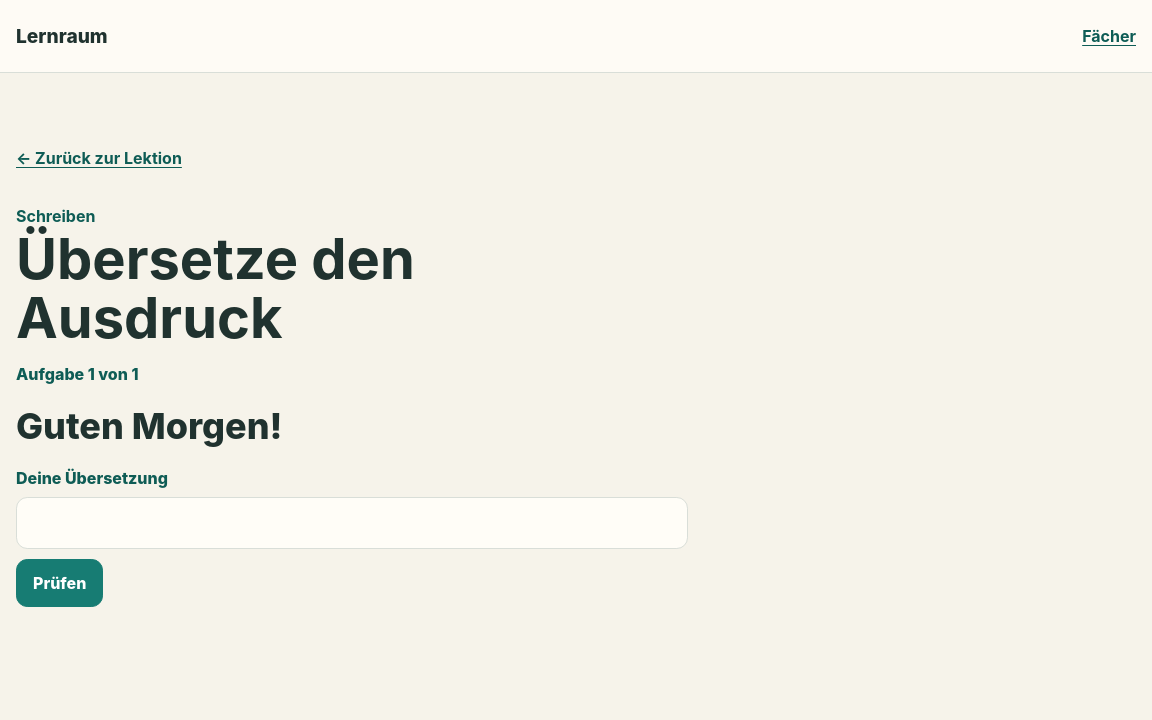
Test: WritingMode › accepts a missing Spanish accent and keeps the feedback until Weiter
Type "Buenos dias" into the field labelled "Deine Übersetzung".
click(352, 523); type("Buenos dias")  # box [16,497,688,549]
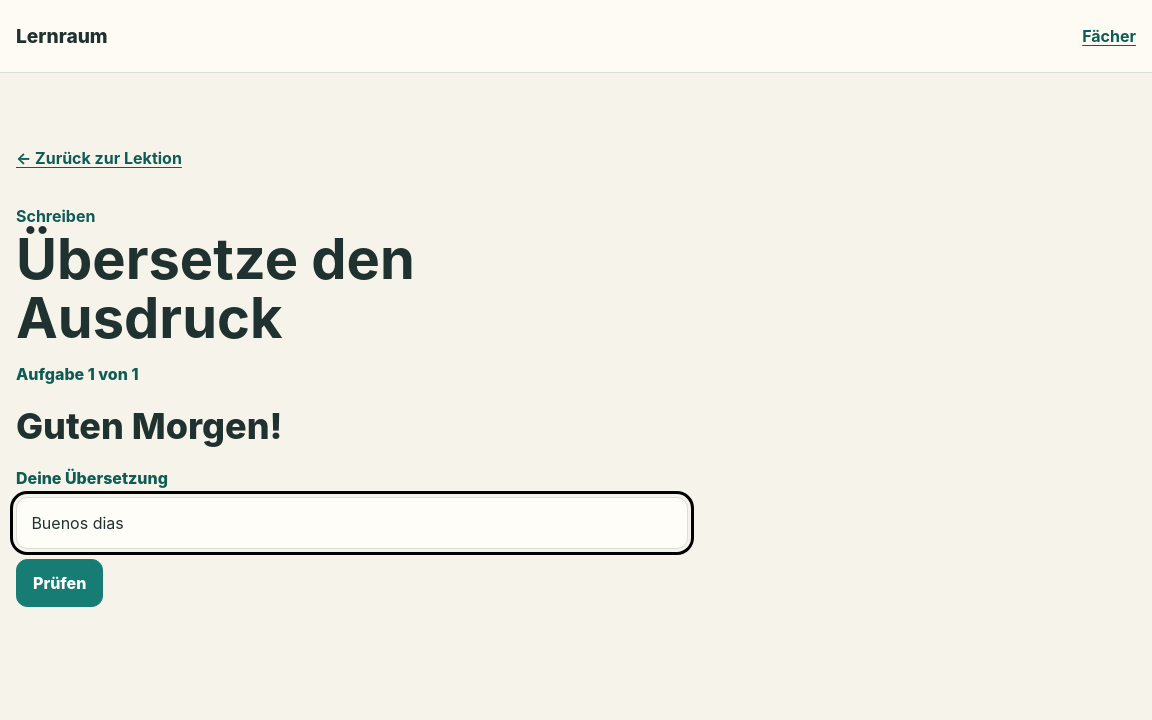
Click the button "Prüfen".
click(60, 583)  # box [16,559,103,607]
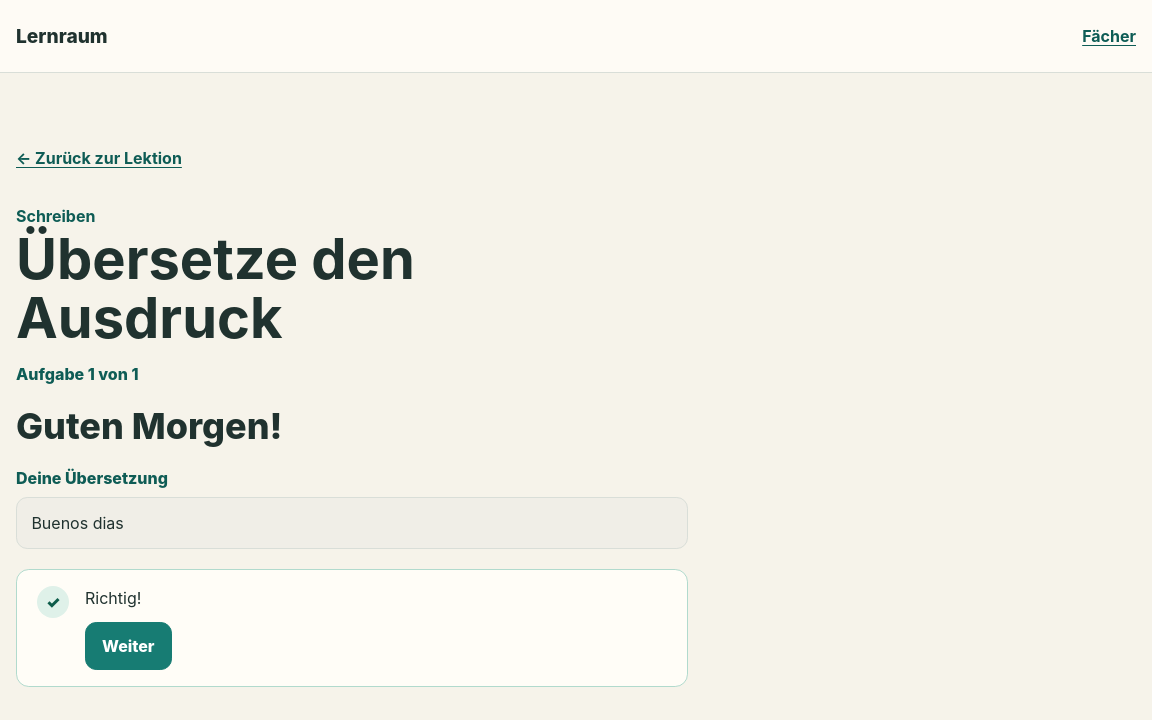
Check: the field labelled "Deine Übersetzung" is disabled, box [16,497,688,549]
Check: the message reads "Richtig!", box [85,588,141,608]
Check: the button "Weiter" is shown, box [85,622,172,670]
